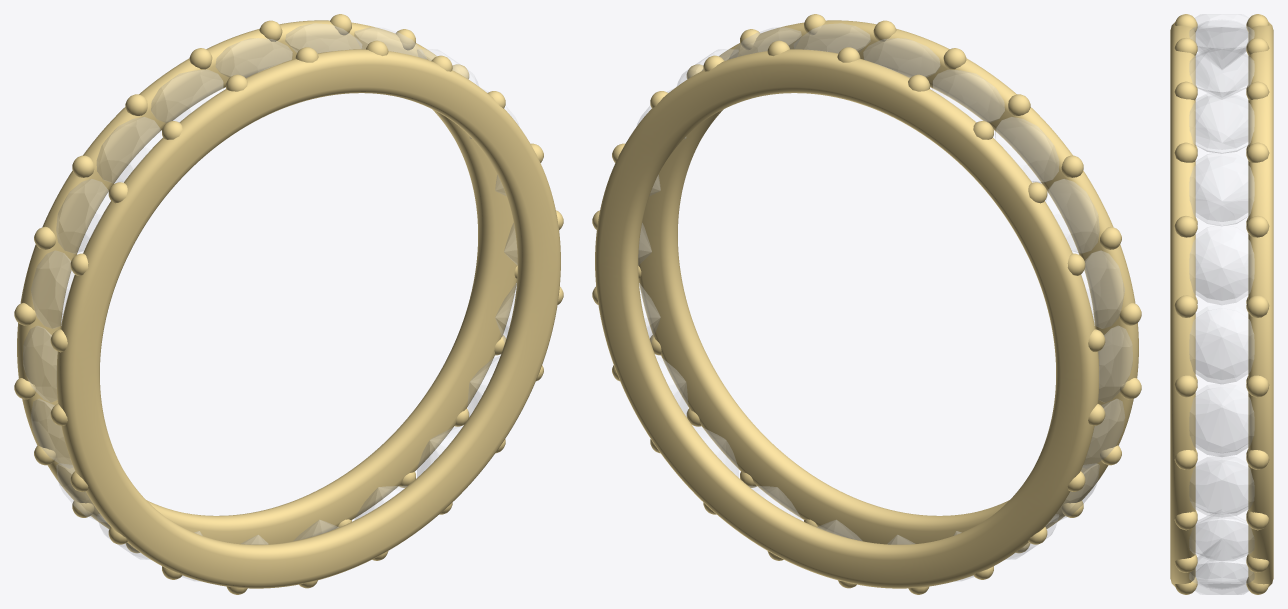
File: eternity_band.glb
The picture shows the model from 3 angles, left to right: view 1: azimuth 30°, elevation 25°; view 2: azimuth 150°, elevation 25°; view 3: azimuth 270°, elevation 25°; orthographic projection.
Visible parts, largest first — view 1: eternity_band; view 2: eternity_band; view 3: eternity_band.
Part boxes in pixels (box(x1,y1,x2,y2)): eternity_band: box(14, 14, 563, 594); eternity_band: box(592, 14, 1141, 594); eternity_band: box(1170, 14, 1273, 594).
Size of the model in its own units: 2.03 by 2.05 by 0.3607.
